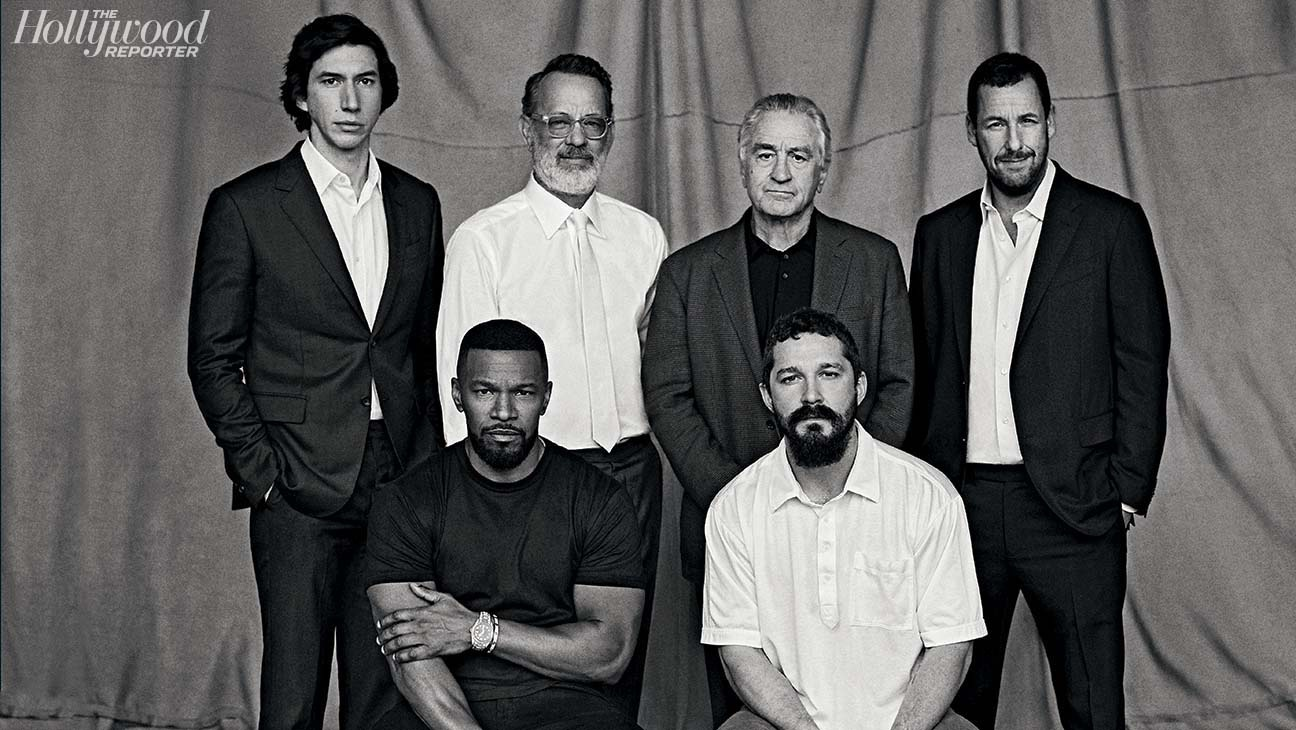bad: (305, 56, 394, 146), (454, 365, 544, 454), (763, 355, 852, 445), (534, 96, 623, 186), (743, 138, 818, 213), (975, 105, 1050, 179)
